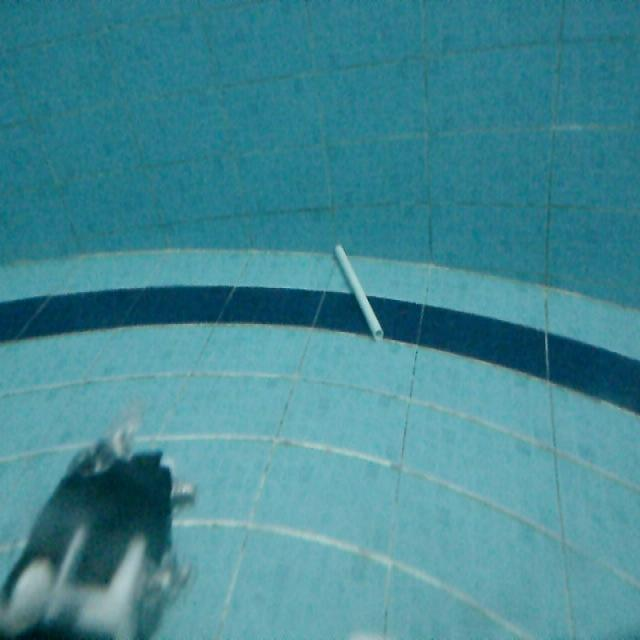Cube: (331, 238, 386, 342)
